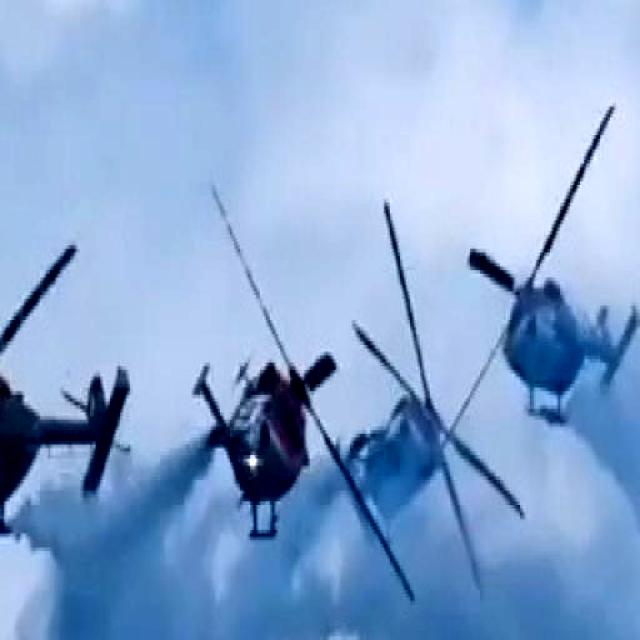drone: (195, 192, 340, 561), (470, 95, 634, 419), (0, 198, 132, 585), (345, 214, 470, 584)
